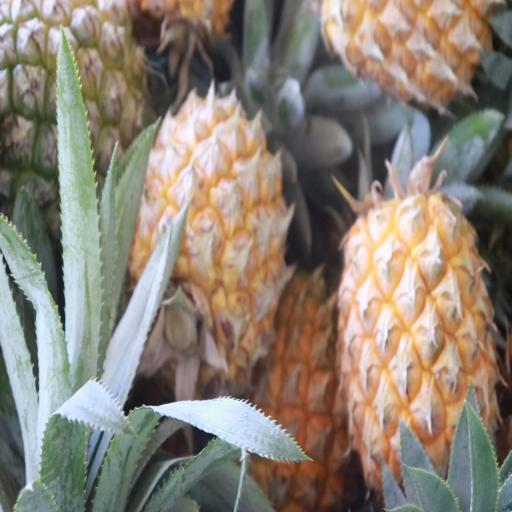Pineapple - v8 v1: (344, 200, 499, 511), (125, 95, 288, 369), (232, 275, 354, 511)
